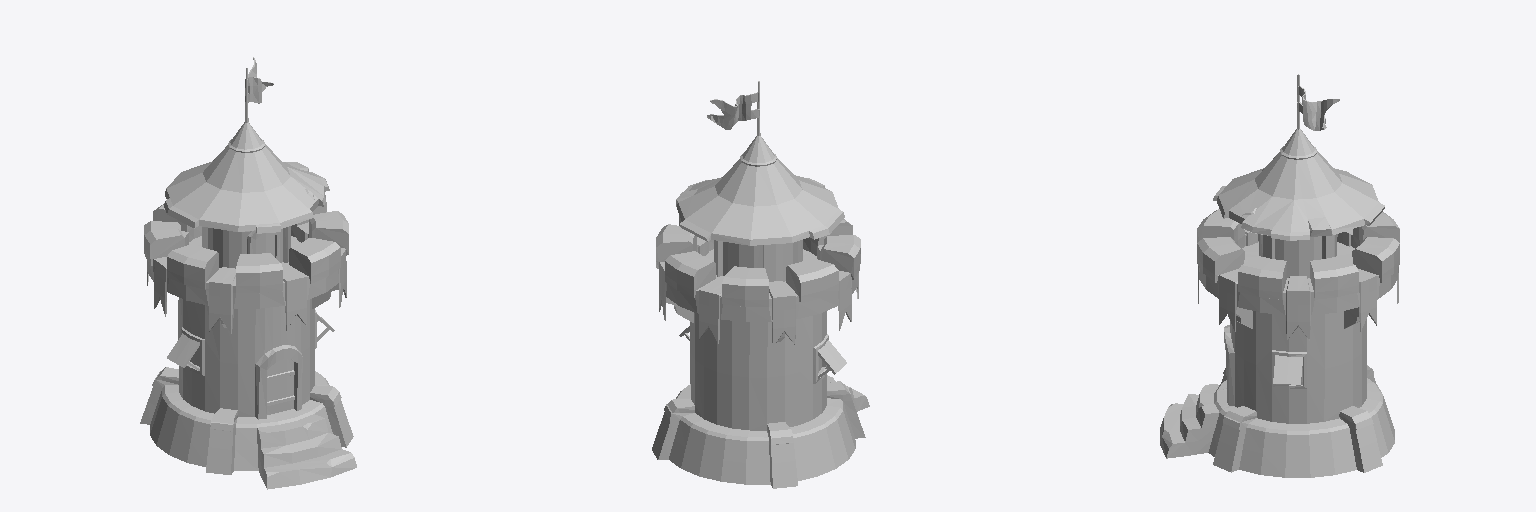
Rendered from Tower.obj.
The picture shows the model from 3 angles: view 1: azimuth 30°, elevation 25°; view 2: azimuth 150°, elevation 25°; view 3: azimuth 270°, elevation 25°; orthographic projection.
Parts seen in each view (by area): view 1: Spacedraw-Tower-Final.023; view 2: Spacedraw-Tower-Final.023; view 3: Spacedraw-Tower-Final.023.
Boxes of the visible parts, x1=… form: Spacedraw-Tower-Final.023: x1=140, y1=57, x2=356, y2=489; Spacedraw-Tower-Final.023: x1=652, y1=81, x2=869, y2=488; Spacedraw-Tower-Final.023: x1=1160, y1=74, x2=1399, y2=477.
Size of the model in its own units: 9.27 by 18.2 by 10.96.